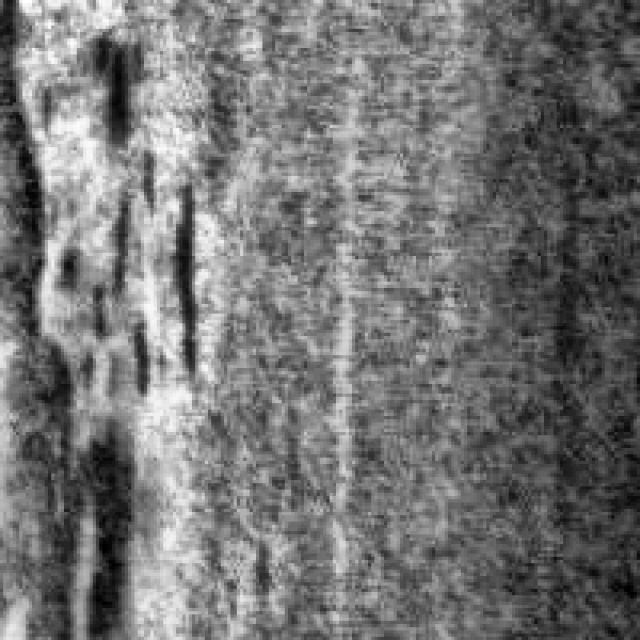Patches: (0, 0, 138, 634), (80, 172, 202, 388), (29, 26, 125, 148)
